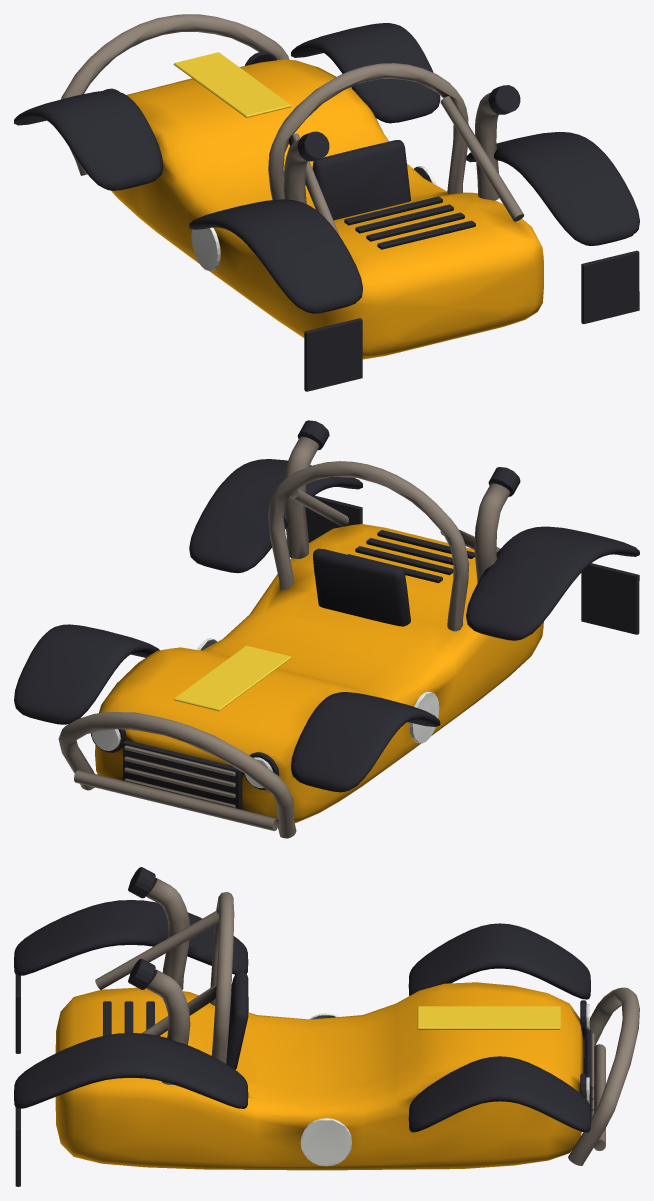
File: kart_hauler.glb
3 renders of one model, top to bottom at view 1: azimuth 30°, elevation 25°; view 2: azimuth 150°, elevation 25°; view 3: azimuth 270°, elevation 25°, orthographic.
Visible parts, largest first — view 1: Paint_body, Trim_arch.002, Trim_arch.003, Trim_arch, Trim_arch.001, Trim_seatback, Metal_cage, Metal_bullbar, Trim_flap, Trim_flap.001, Accent_bonnetstripe, Metal_brace.001 (+10 smaller); view 2: Paint_body, Trim_arch.002, Trim_arch, Trim_arch.001, Trim_arch.003, Metal_cage, Metal_bullbar, Trim_seatback, Trim_flap, Accent_bonnetstripe, Trim_grille, Metal_bullbar_low (+11 smaller); view 3: Paint_body, Trim_arch.003, Trim_arch.002, Trim_arch.001, Trim_arch, Metal_bullbar, Accent_bonnetstripe, Metal_cage, Metal_stack, Plate_side.001, Metal_stack.001, Metal_brace (+8 smaller).
Boxes of the visible parts, box(x1,y1,x2,y2) form: Paint_body: box(111, 59, 543, 359); Trim_arch.002: box(189, 199, 362, 313); Trim_arch.003: box(466, 132, 639, 245); Trim_arch: box(14, 90, 163, 190); Trim_arch.001: box(291, 23, 440, 123); Trim_seatback: box(312, 140, 410, 220); Metal_cage: box(268, 63, 468, 200); Metal_bullbar: box(61, 14, 289, 175); Trim_flap: box(304, 318, 362, 391); Trim_flap.001: box(581, 250, 639, 323); Accent_bonnetstripe: box(173, 52, 291, 117); Metal_brace.001: box(440, 96, 523, 221); Paint_body: box(95, 524, 543, 822); Trim_arch.002: box(466, 526, 639, 640); Trim_arch: box(291, 692, 440, 792); Trim_arch.001: box(14, 624, 159, 724); Trim_arch.003: box(189, 459, 362, 573); Metal_cage: box(268, 461, 469, 631); Metal_bullbar: box(58, 712, 296, 838); Trim_seatback: box(313, 548, 410, 626); Trim_flap: box(581, 563, 639, 634); Accent_bonnetstripe: box(174, 645, 291, 711); Trim_grille: box(123, 740, 242, 809); Metal_bullbar_low: box(74, 770, 278, 830); Paint_body: box(55, 982, 584, 1170); Trim_arch.003: box(14, 1033, 248, 1108); Trim_arch.002: box(14, 900, 248, 975); Trim_arch.001: box(408, 1056, 590, 1132); Trim_arch: box(408, 923, 590, 999); Metal_bullbar: box(568, 987, 639, 1165); Accent_bonnetstripe: box(417, 1006, 560, 1029); Metal_cage: box(210, 892, 234, 1063); Metal_stack: box(146, 878, 189, 989); Plate_side.001: box(300, 1118, 351, 1166); Metal_stack.001: box(146, 969, 190, 1084); Metal_brace: box(95, 910, 219, 989).
Size of the model in its own units: 1.88 by 1.14 by 2.89.
